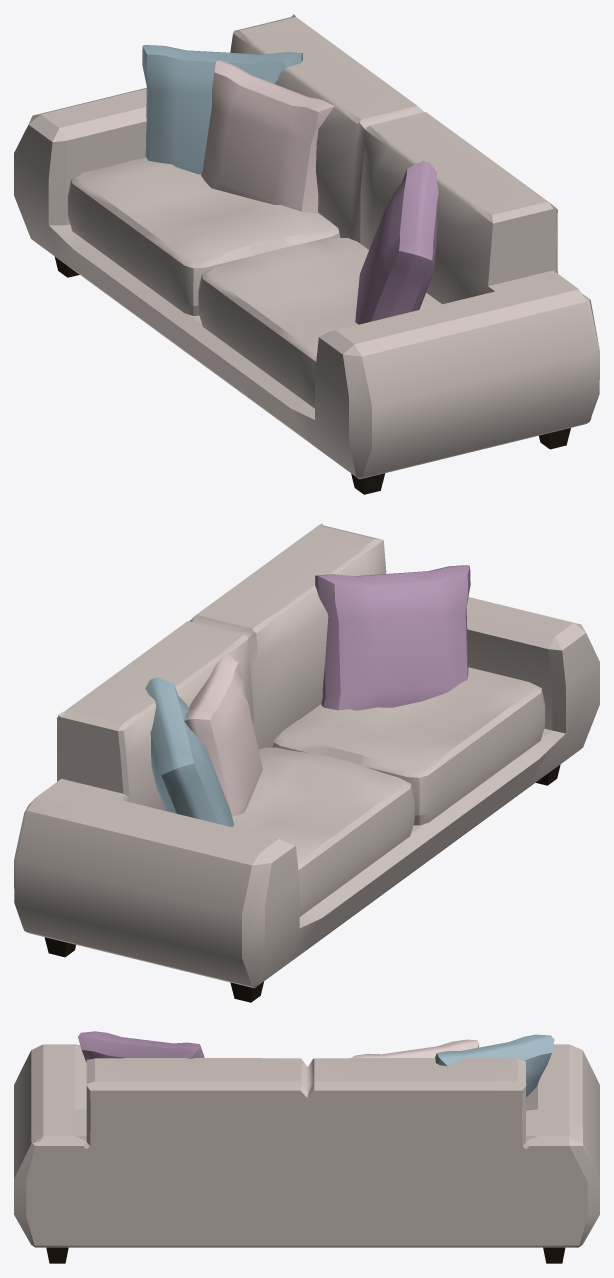
File: 01bank_licht_nieuwestijl.fbx
3 views of the same model, one above another, from view 1: azimuth 30°, elevation 25°; view 2: azimuth 150°, elevation 25°; view 3: azimuth 270°, elevation 25° (orthographic). The views are drawn at different scales.
Visible parts, largest first — view 1: pCube323; view 2: pCube323; view 3: pCube323.
Part boxes in pixels (x1,y1,x2,y2): pCube323: [14, 14, 599, 494]; pCube323: [14, 523, 599, 1002]; pCube323: [14, 1031, 599, 1263].
Size of the model in its own units: 1.54 by 1.38 by 3.77.
